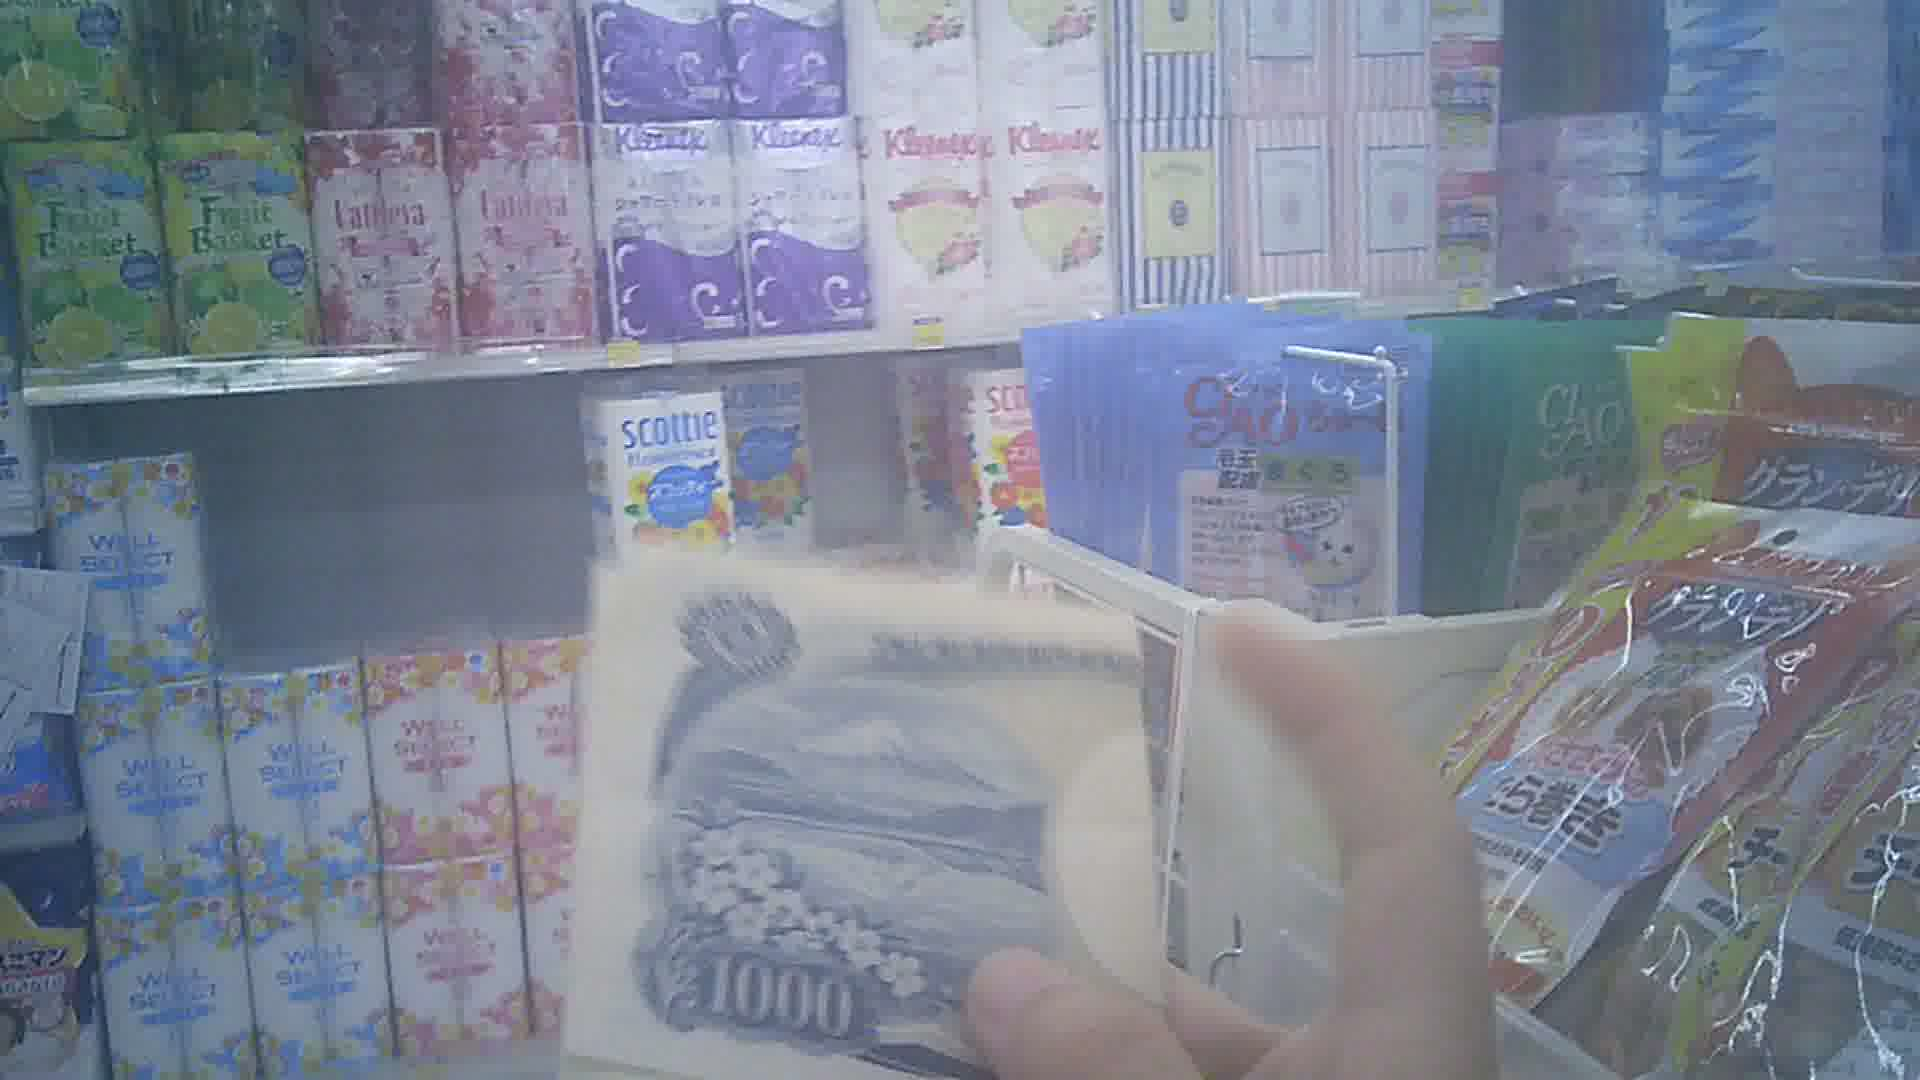1,000 Yen: (574, 537, 1168, 1069)
